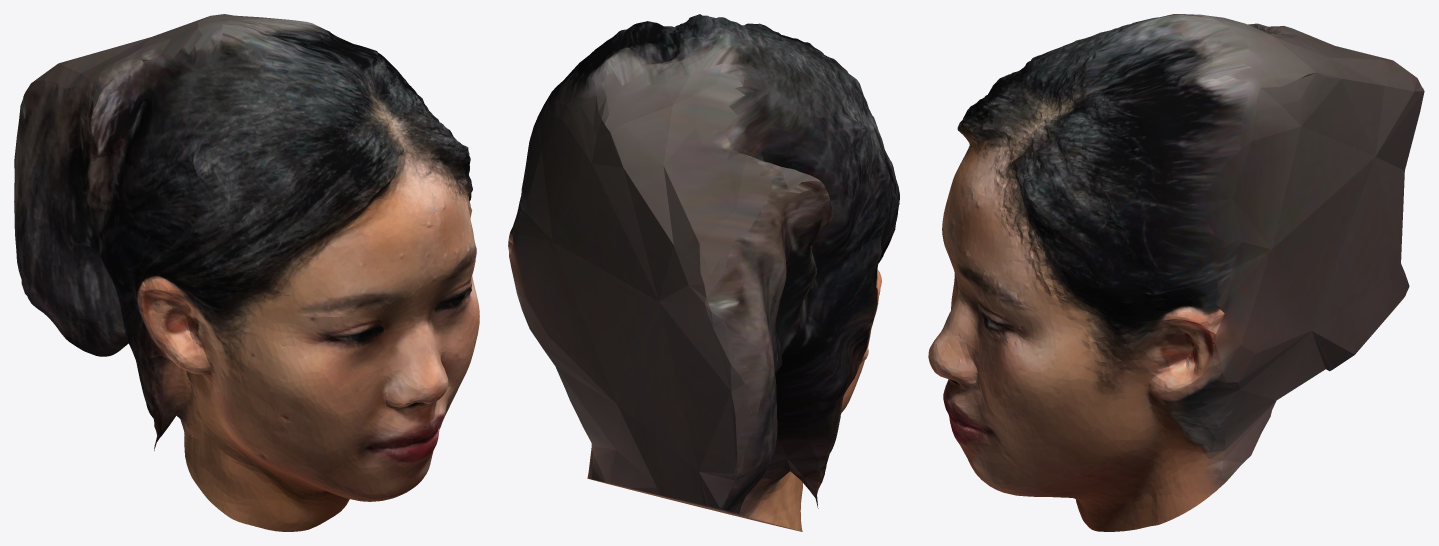
Rendered from hero-head.glb.
The picture shows the model from 3 angles, left to right: view 1: azimuth 30°, elevation 25°; view 2: azimuth 150°, elevation 25°; view 3: azimuth 270°, elevation 25°; orthographic projection. The views are drawn at different scales.
Parts seen in each view (by area): view 1: geometry_0; view 2: geometry_0; view 3: geometry_0.
Part boxes in pixels (x1=…): geometry_0: x1=14, y1=14, x2=479, y2=531; geometry_0: x1=508, y1=14, x2=899, y2=531; geometry_0: x1=928, y1=14, x2=1424, y2=531.
Bounding box in the file's own units: 1.46 × 2 × 1.84.
1 material, 1 textured.
